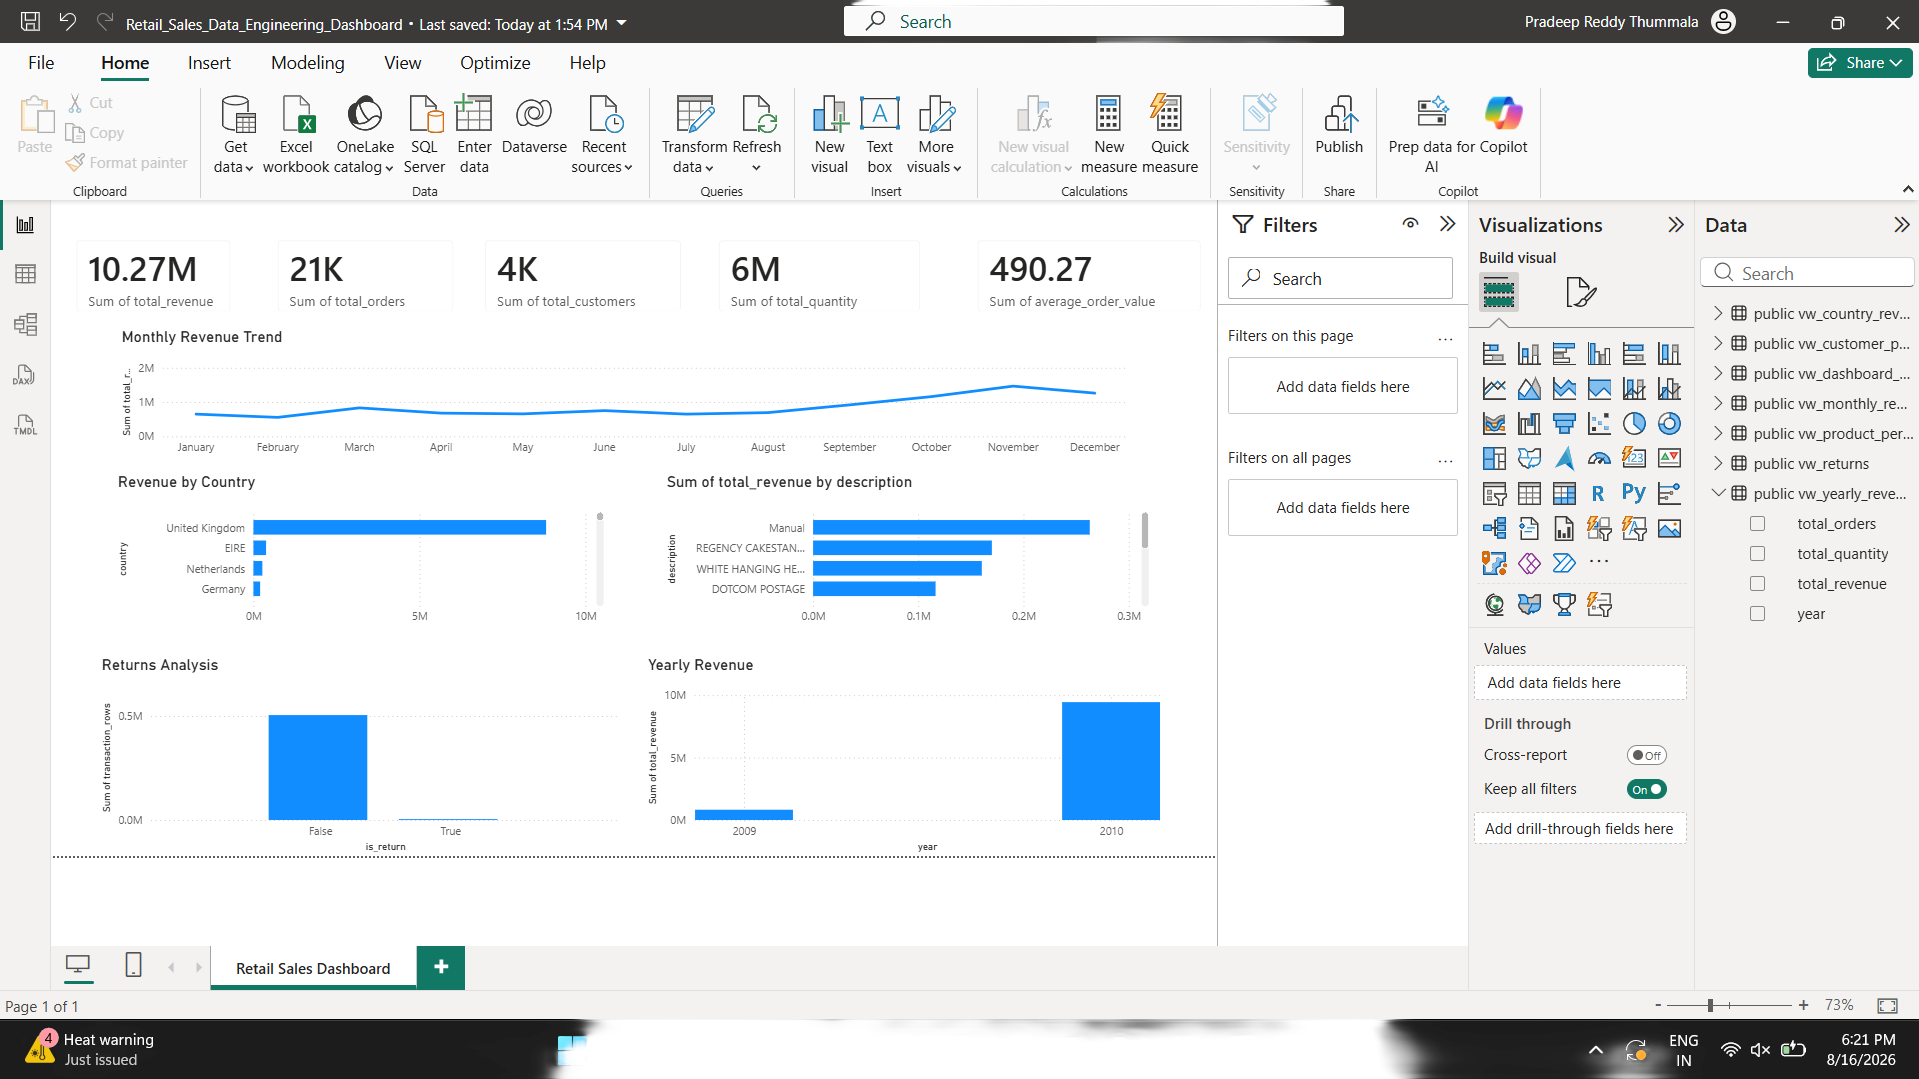

This screenshot's page, from the dashboard's own definition file:
{"tool":"powerbi","page":{"name":"Retail Sales Dashboard","canvas":[1280,720],"ordinal":0},"visuals":[{"type":"cardVisual","fields":{"Data":["Sum(public vw_dashboard_kpis.total_revenue)"]},"box":[11,27.4,203.1,112.5],"z":0},{"type":"cardVisual","fields":{"Data":["Sum(public vw_dashboard_kpis.total_orders)"]},"box":[231.9,27.4,227.8,112.5],"z":1},{"type":"cardVisual","fields":{"Data":["Sum(public vw_dashboard_kpis.total_customers)"]},"box":[459.7,27.4,249.7,112.5],"z":2},{"type":"cardVisual","fields":{"Data":["Sum(public vw_dashboard_kpis.total_quantity)"]},"box":[716.3,27.4,255.2,112.5],"z":3},{"type":"cardVisual","fields":{"Data":["Sum(public vw_dashboard_kpis.average_order_value)"]},"box":[1000.3,27.4,279.9,112.5],"z":4},{"type":"lineChart","title":"Monthly Revenue Trend","fields":{"Category":["public vw_monthly_revenue.month_name"],"Y":["Sum(public vw_monthly_revenue.total_revenue)"]},"box":[72.7,140,1114.2,149.6],"z":5},{"type":"clusteredBarChart","title":"Revenue by Country","fields":{"Category":["public vw_country_revenue.country"],"Y":["Sum(public vw_country_revenue.total_revenue)"]},"box":[68.6,299.1,543.4,175.6],"z":6},{"type":"clusteredBarChart","fields":{"Category":["public vw_product_performance.description"],"Y":["Sum(public vw_product_performance.total_revenue)"]},"box":[671,299.1,539.3,175.6],"z":7},{"type":"columnChart","title":"Returns Analysis","fields":{"Category":["public vw_returns.is_return"],"Y":["Sum(public vw_returns.transaction_rows)"]},"box":[50.8,499.5,579.1,220.9],"z":8},{"type":"columnChart","title":"Yearly Revenue","fields":{"Category":["public vw_yearly_revenue.year"],"Y":["Sum(public vw_yearly_revenue.total_revenue)"]},"box":[650.4,499.5,572.2,220.9],"z":9}]}

Visuals, with their boxes on the page's 1280x720 design canvas (x1, y1, x2, y2). These are canvas units, not pixel positions in the 1919x1079 screenshot, which may show the page scaled, cropped or inside an application window:
cardVisual - Sum(public vw_dashboard_kpis.total_revenue): (left=11, top=27, right=214, bottom=140)
cardVisual - Sum(public vw_dashboard_kpis.total_orders): (left=232, top=27, right=460, bottom=140)
cardVisual - Sum(public vw_dashboard_kpis.total_customers): (left=460, top=27, right=709, bottom=140)
cardVisual - Sum(public vw_dashboard_kpis.total_quantity): (left=716, top=27, right=972, bottom=140)
cardVisual - Sum(public vw_dashboard_kpis.average_order_value): (left=1000, top=27, right=1280, bottom=140)
"Monthly Revenue Trend" lineChart: (left=73, top=140, right=1187, bottom=290)
"Revenue by Country" clusteredBarChart: (left=69, top=299, right=612, bottom=475)
clusteredBarChart - public vw_product_performance.description x Sum(public vw_product_performance.total_revenue): (left=671, top=299, right=1210, bottom=475)
"Returns Analysis" columnChart: (left=51, top=500, right=630, bottom=720)
"Yearly Revenue" columnChart: (left=650, top=500, right=1223, bottom=720)
